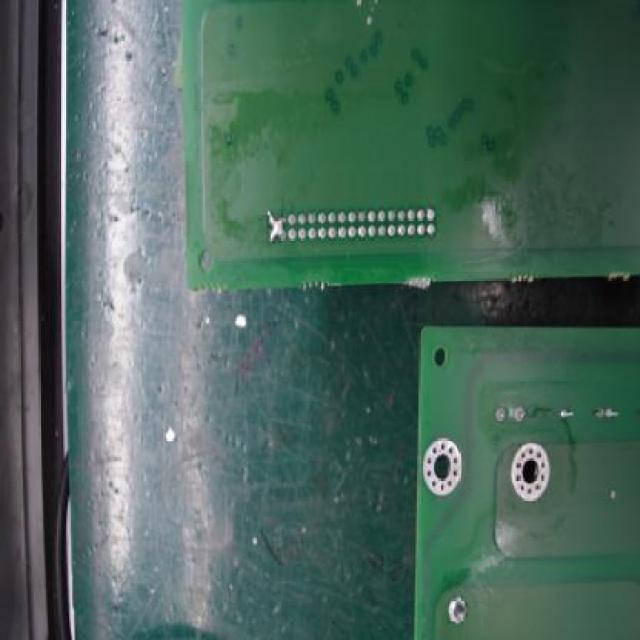Soldering shorted: (265, 208, 287, 248)
